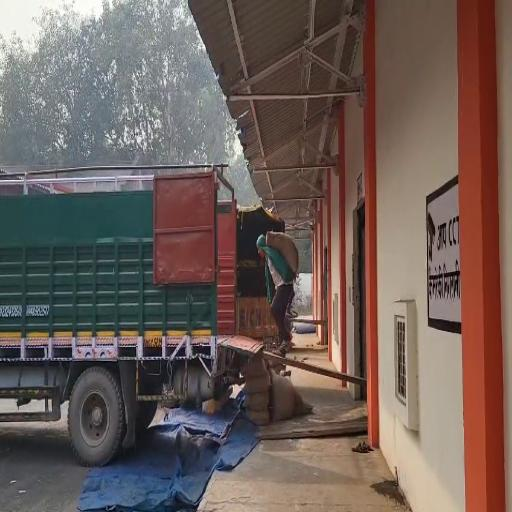bag: (267, 228, 299, 280)
